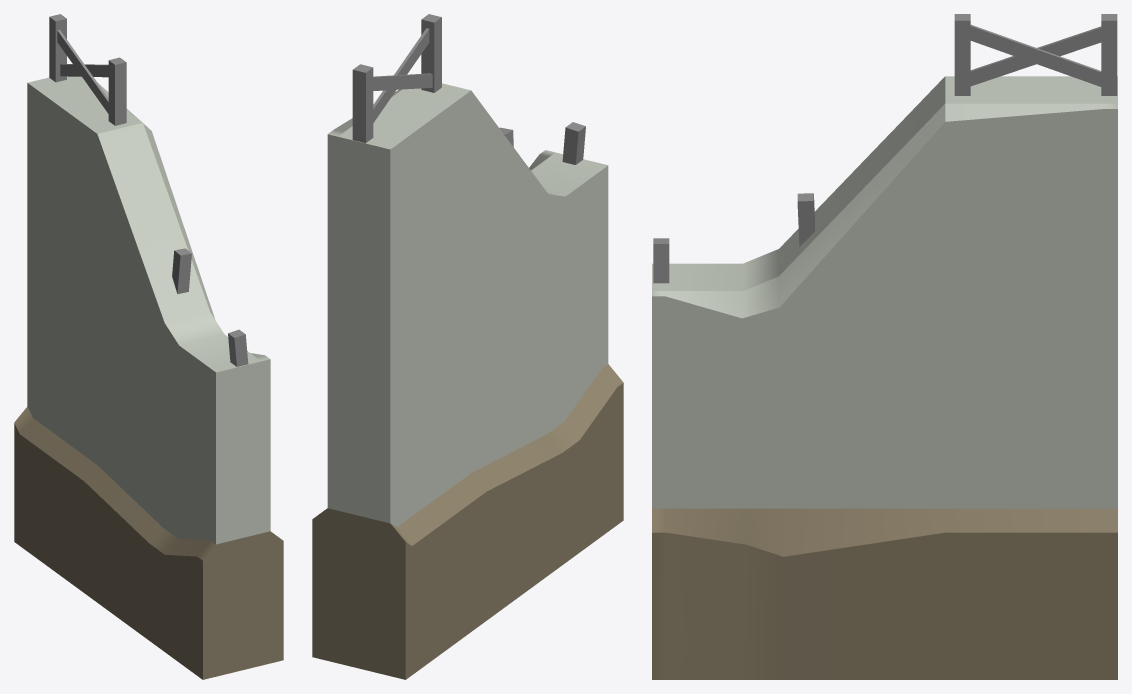
Rendered from SM_wall_perimeter_C.fbx.
The picture shows the model from 3 angles, left to right: view 1: azimuth 30°, elevation 25°; view 2: azimuth 150°, elevation 25°; view 3: azimuth 270°, elevation 25°; orthographic projection. The views are drawn at different scales.
Parts seen in each view (by area): view 1: pCube82; view 2: pCube82; view 3: pCube82.
Part boxes in pixels (box(x1,y1,x2,y2)): pCube82: box(14, 14, 283, 679); pCube82: box(312, 14, 623, 679); pCube82: box(652, 14, 1117, 679).
Size of the model in its own units: 74.29 by 453 by 300.
